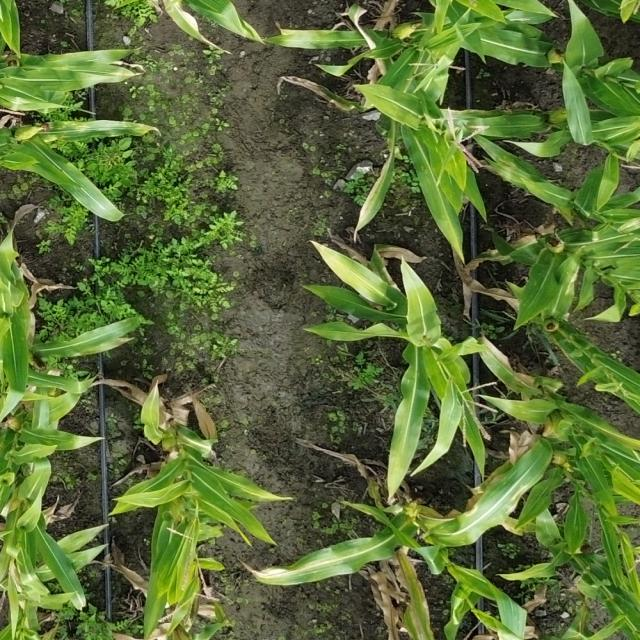gray-leaf-spot: (48, 118, 138, 141), (62, 180, 120, 215), (502, 480, 528, 513), (60, 529, 99, 550), (500, 399, 542, 418), (63, 552, 105, 570), (297, 34, 344, 49), (482, 349, 502, 372)
northern-leaf-blight: (277, 543, 360, 583), (166, 0, 206, 35)
